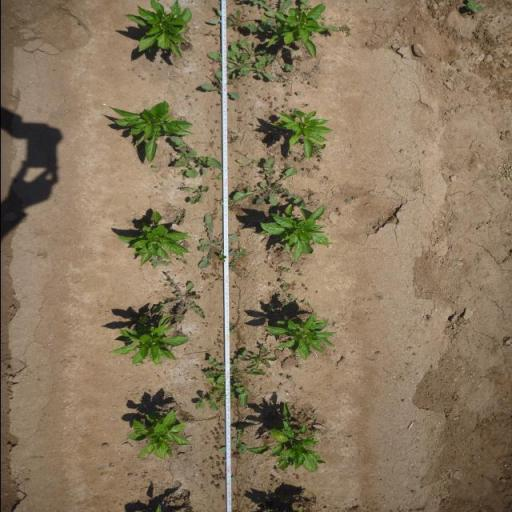plant: (121, 0, 193, 60), (108, 315, 190, 366), (124, 408, 194, 462), (250, 416, 314, 469), (107, 100, 194, 138), (258, 206, 330, 248), (267, 314, 336, 356), (116, 220, 191, 258), (272, 6, 326, 57), (267, 110, 332, 144)
weed: (232, 160, 306, 207), (203, 351, 264, 397), (210, 38, 276, 80), (150, 272, 206, 318), (165, 137, 221, 177), (195, 212, 237, 262), (200, 74, 240, 101), (203, 7, 246, 32), (242, 0, 274, 33), (218, 424, 247, 454), (246, 345, 277, 369), (178, 185, 210, 204), (210, 382, 234, 406), (193, 398, 218, 411), (464, 0, 484, 13), (235, 159, 260, 168), (150, 256, 168, 268), (304, 188, 316, 206), (212, 468, 226, 482), (312, 144, 326, 158), (339, 24, 352, 38), (274, 266, 292, 276), (226, 134, 240, 146), (234, 246, 245, 260), (282, 282, 297, 292), (171, 330, 189, 337), (276, 72, 287, 82), (280, 64, 293, 72), (212, 171, 222, 181), (270, 479, 279, 489), (176, 169, 186, 178), (229, 322, 237, 333), (176, 258, 188, 265), (291, 55, 303, 62), (272, 248, 282, 256), (218, 252, 226, 262), (294, 154, 304, 162), (214, 432, 220, 444), (228, 200, 234, 212), (265, 304, 273, 312), (228, 263, 236, 271), (201, 273, 209, 281), (173, 215, 181, 223), (214, 339, 223, 346), (302, 167, 311, 174), (220, 456, 226, 466), (311, 164, 321, 170), (276, 382, 283, 390), (286, 375, 294, 382), (281, 300, 289, 307), (306, 71, 314, 78), (225, 79, 234, 85), (311, 430, 321, 435), (297, 270, 304, 277), (215, 275, 223, 281), (209, 272, 217, 278), (302, 102, 310, 108), (293, 473, 299, 480), (298, 410, 304, 417), (214, 454, 221, 460), (296, 363, 302, 370), (236, 116, 243, 122), (282, 164, 289, 170), (288, 294, 293, 302), (268, 101, 273, 109), (273, 468, 279, 474), (220, 494, 226, 500), (212, 426, 218, 432), (214, 446, 220, 452), (268, 282, 274, 288), (281, 248, 287, 254), (212, 182, 218, 188), (288, 150, 294, 156), (184, 94, 190, 100), (314, 64, 320, 70), (215, 460, 220, 467), (285, 91, 292, 96), (318, 155, 323, 162), (214, 198, 222, 202), (270, 475, 276, 480), (282, 469, 288, 474), (158, 181, 164, 186), (295, 90, 300, 96), (273, 96, 278, 102), (274, 106, 279, 112), (345, 198, 350, 204), (277, 294, 284, 298), (286, 390, 291, 395), (215, 485, 221, 489), (209, 481, 215, 485), (279, 279, 285, 283), (248, 122, 254, 126), (280, 157, 286, 161), (242, 172, 248, 176), (291, 108, 298, 111), (210, 458, 214, 463), (294, 356, 299, 360), (301, 300, 306, 304), (284, 98, 289, 102), (218, 316, 223, 320), (210, 129, 214, 134), (294, 298, 300, 301), (216, 330, 222, 333), (262, 98, 268, 101), (220, 426, 224, 430), (312, 412, 316, 416), (280, 374, 284, 378), (264, 260, 268, 264), (149, 166, 157, 168), (324, 175, 328, 179), (207, 288, 211, 292), (182, 492, 186, 496), (215, 119, 219, 123), (234, 108, 238, 112), (352, 196, 357, 199), (216, 352, 219, 357), (257, 95, 262, 98), (217, 334, 221, 337), (231, 132, 237, 134), (284, 84, 290, 86), (207, 282, 211, 285), (215, 104, 221, 106), (238, 111, 242, 114), (308, 81, 312, 84), (269, 265, 272, 268), (199, 347, 202, 350), (306, 304, 310, 306), (210, 286, 214, 288), (232, 286, 236, 288), (216, 188, 220, 190), (244, 92, 248, 94), (302, 284, 304, 287), (154, 186, 157, 188), (206, 323, 209, 325), (196, 366, 199, 368), (246, 181, 249, 183), (302, 388, 304, 390), (306, 288, 308, 290), (272, 262, 274, 264), (204, 326, 208, 327), (240, 176, 244, 177)
